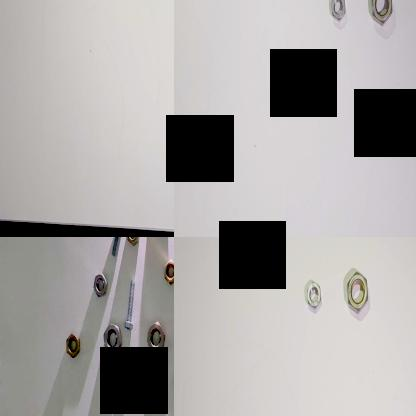Bolts: (122, 274, 142, 332), (109, 237, 126, 260)
NUTS: (344, 266, 374, 316), (146, 318, 166, 362), (304, 274, 324, 314), (101, 322, 122, 358), (62, 326, 82, 362), (368, 0, 392, 29), (327, 0, 349, 26), (88, 272, 107, 298), (166, 256, 174, 282), (126, 237, 139, 250)
